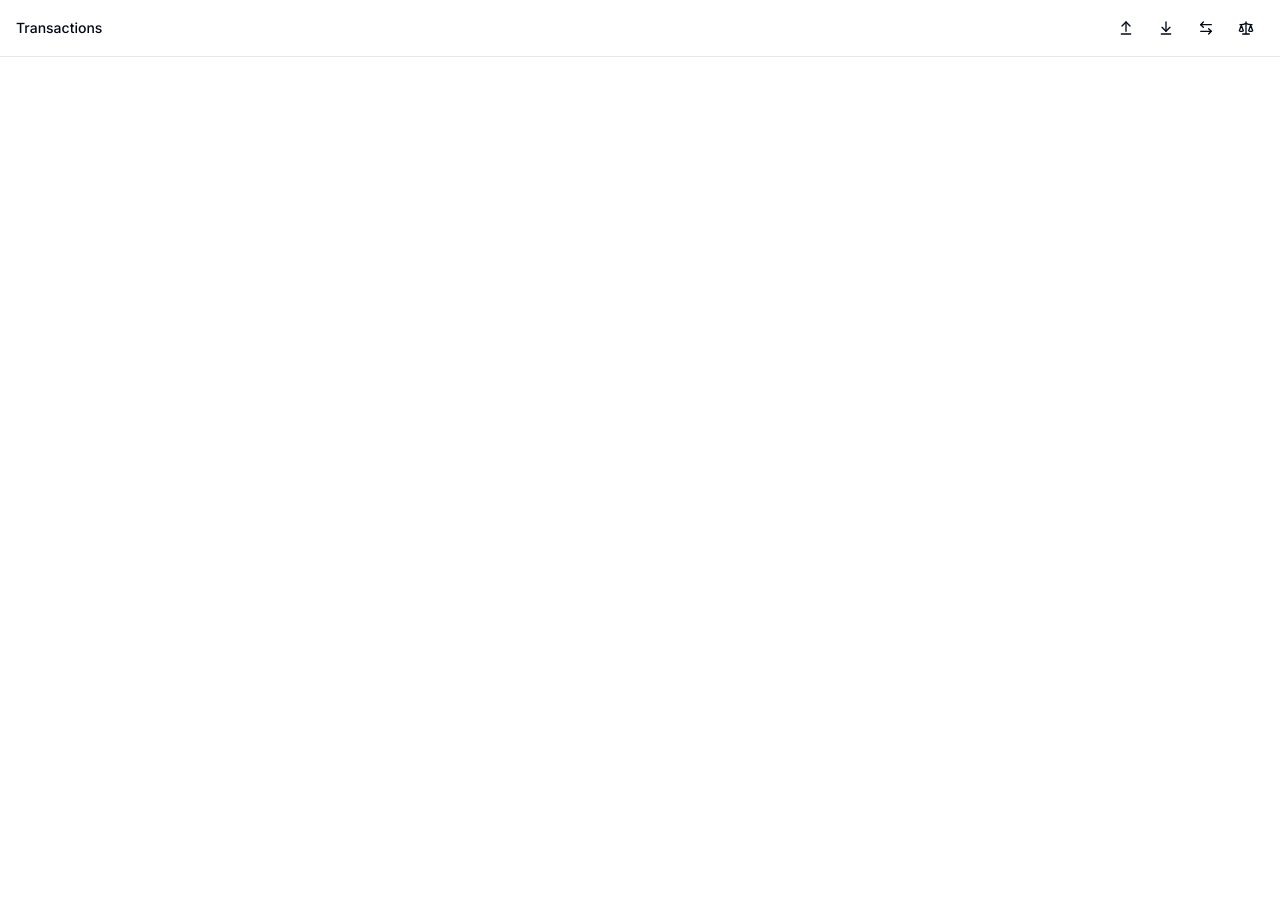
Test: ControlBar › clicking "Add income" opens the income dialog
Click the button named "add income" at [1166, 28], box [1148,10,1184,46]
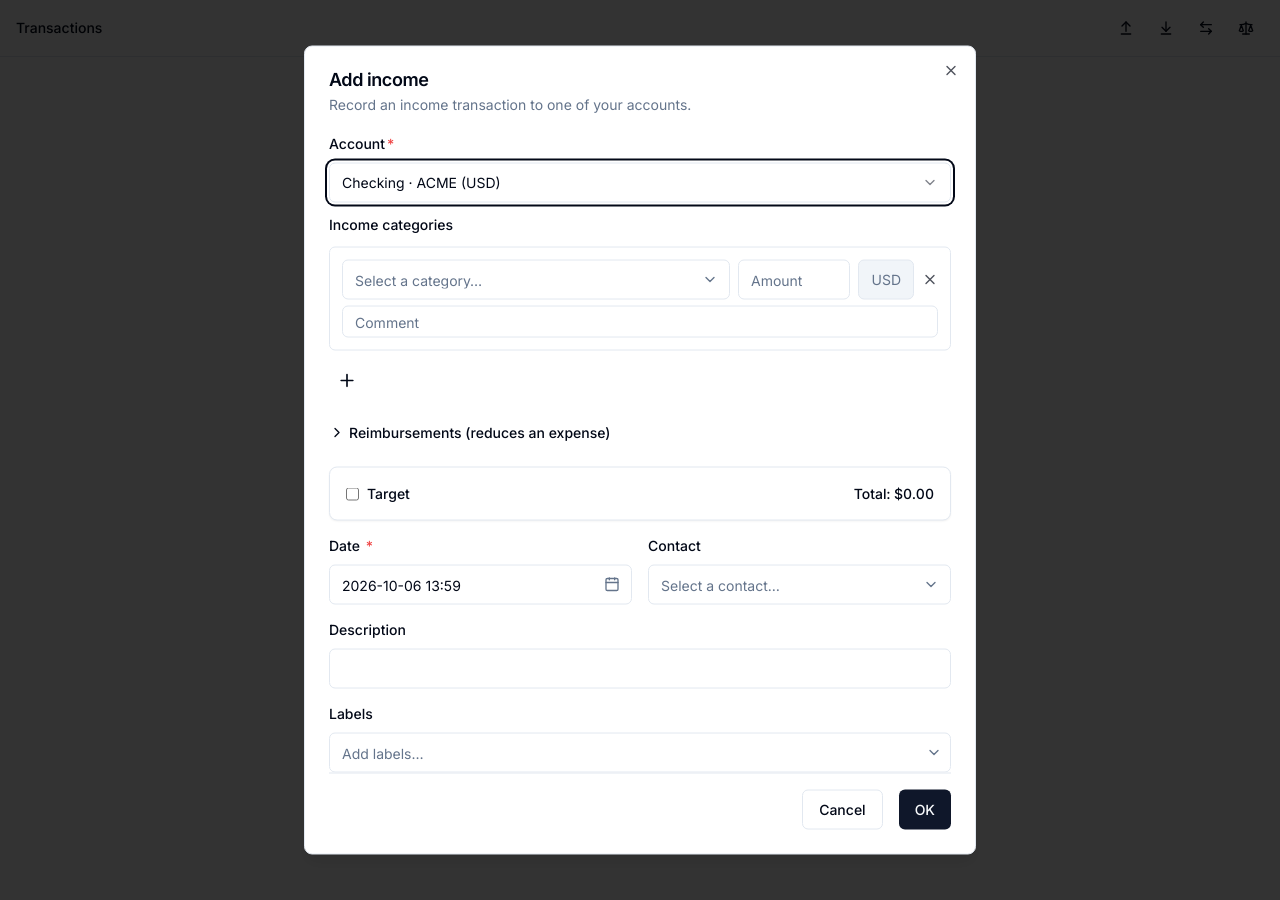
Check: the dialog "Add income" is shown, box [304,46,976,854]
Check: the button "OK" is shown, box [899,790,951,830]
